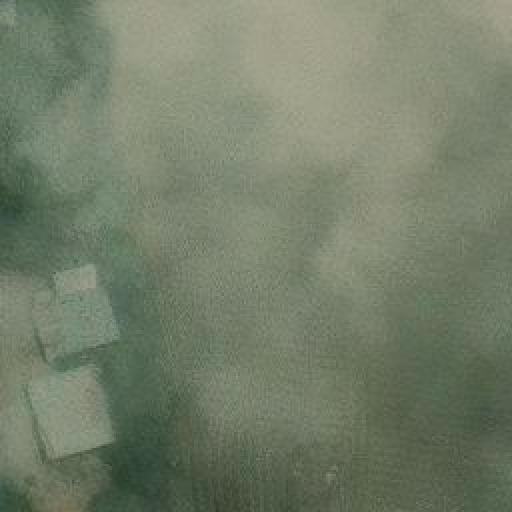manzanas: (15, 364, 119, 469), (25, 260, 124, 361)
